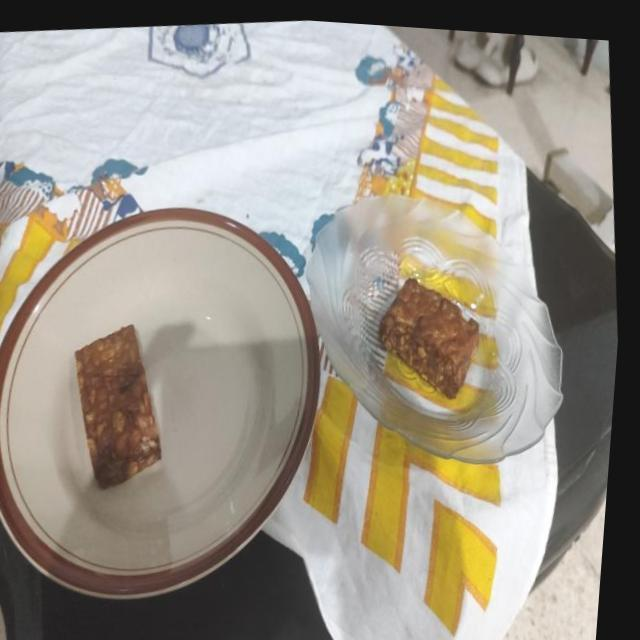tempe_goreng: (74, 324, 160, 488), (378, 278, 478, 397)
